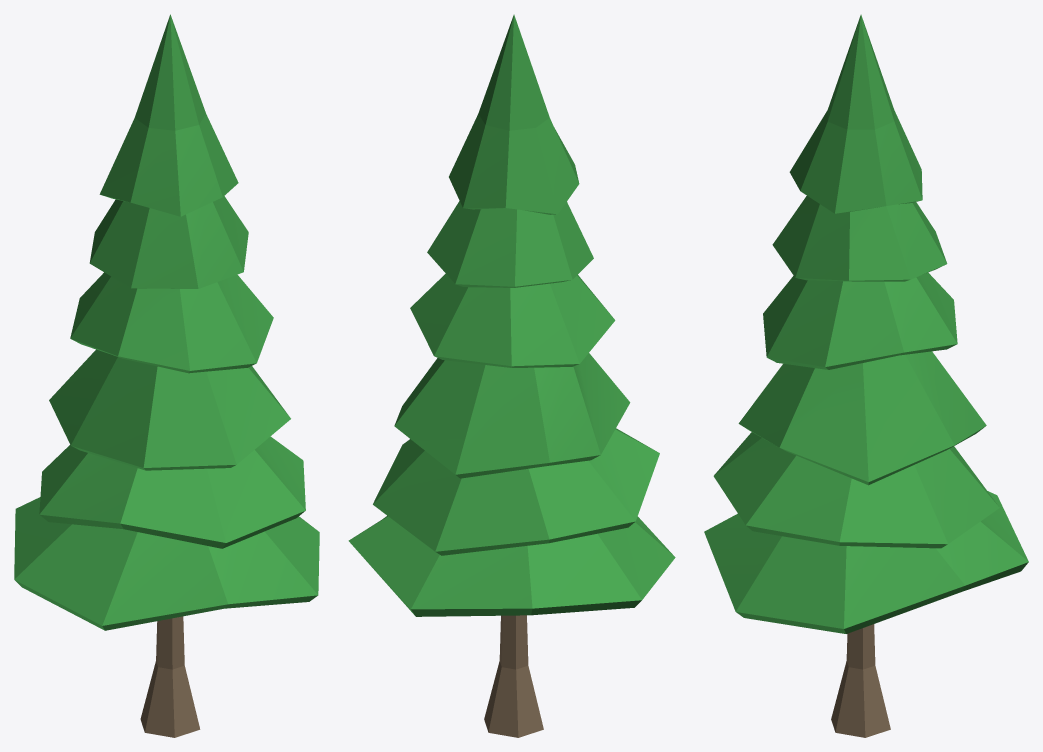
File: pine_c.FBX
The picture shows the model from 3 angles, left to right: view 1: azimuth 30°, elevation 25°; view 2: azimuth 150°, elevation 25°; view 3: azimuth 270°, elevation 25°; orthographic projection.
Visible parts, largest first — view 1: pine_c; view 2: pine_c; view 3: pine_c.
Boxes of the visible parts, left/top/right/bottom form: pine_c: left=14, top=14, right=319, bottom=737; pine_c: left=348, top=14, right=675, bottom=737; pine_c: left=704, top=14, right=1028, bottom=737.
Size of the model in its own units: 2.39 by 5.73 by 2.38.
